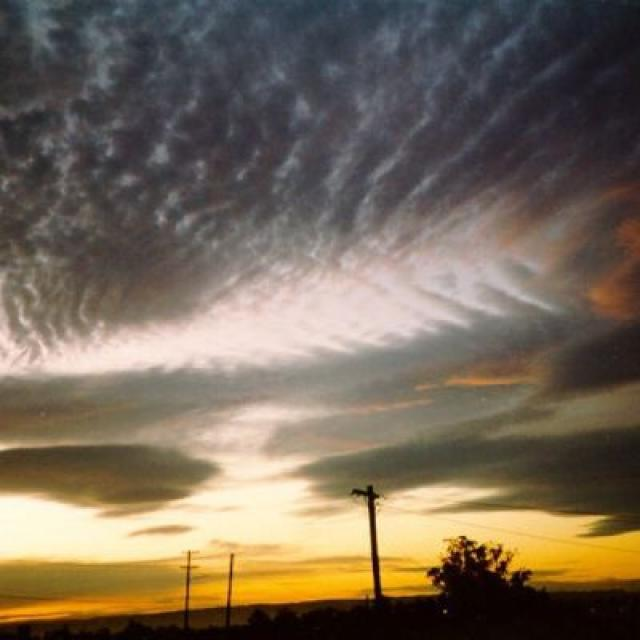Ac: (1, 20, 640, 438)
